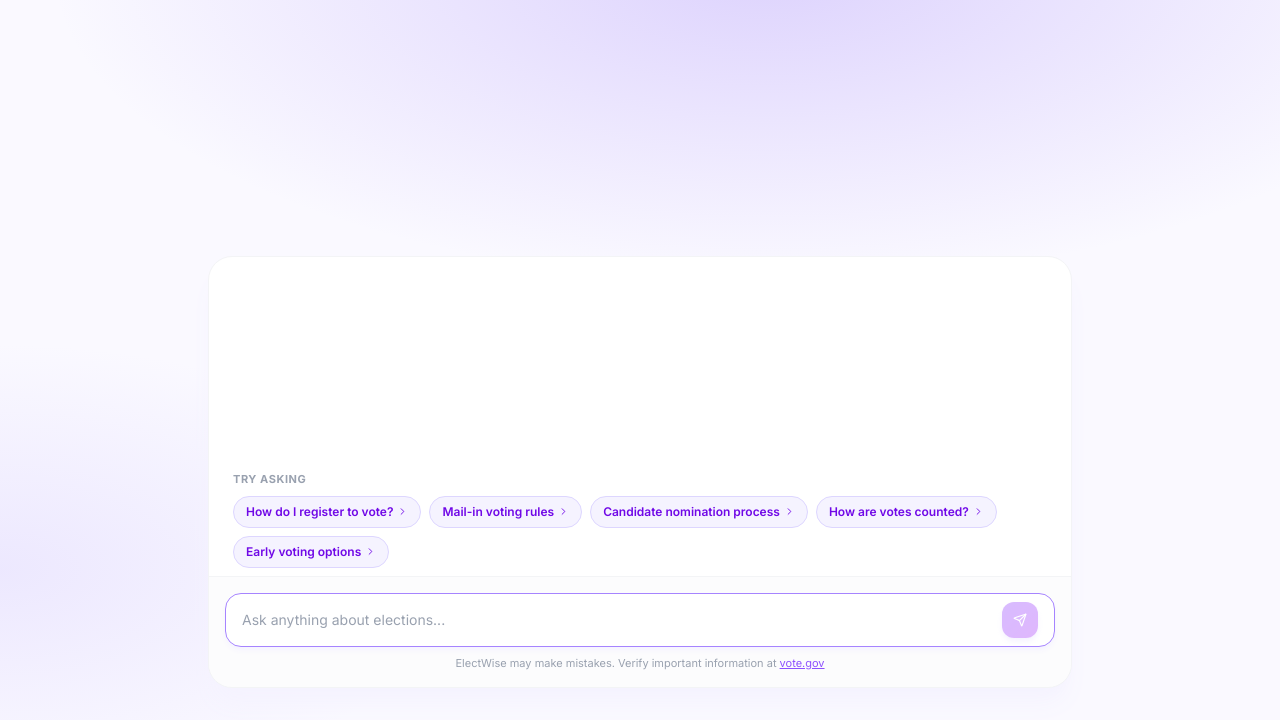
it: AssistantPage › clicking a suggestion fills the input
(page scrolled)
Click the list item with aria-label "Ask: Mail-in voting rules" at (506, 512), box [430,496,582,528]
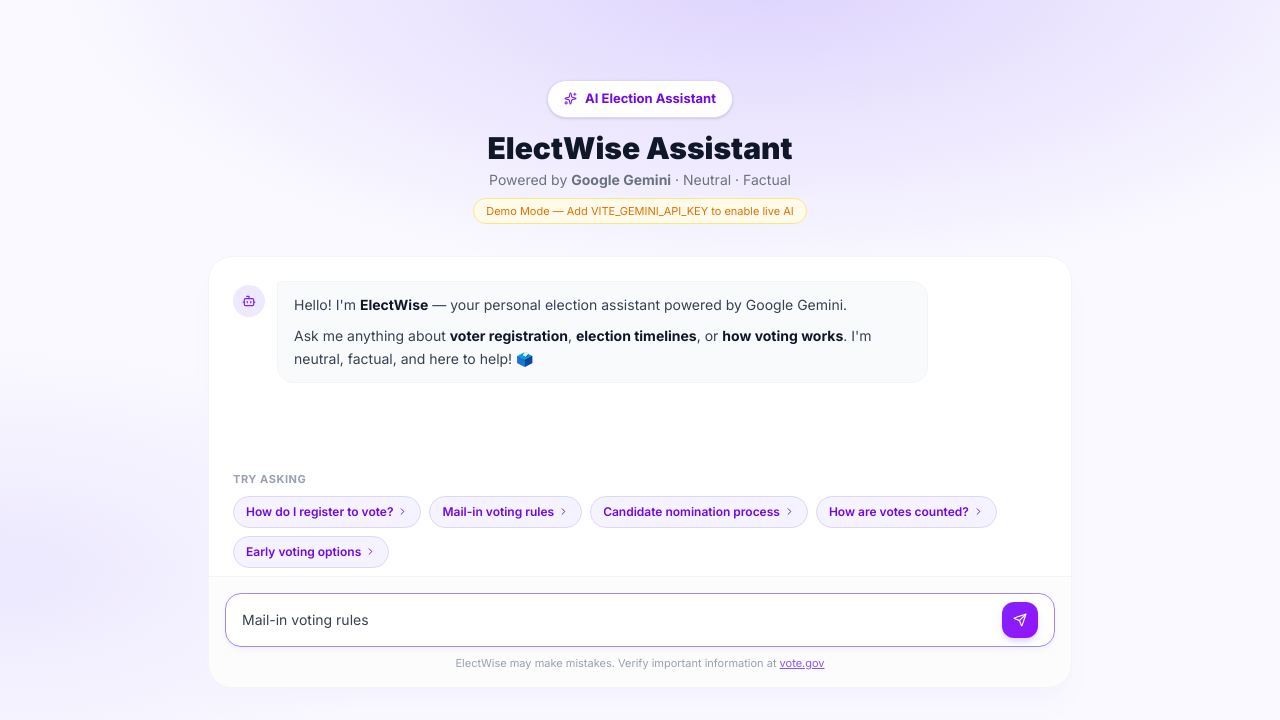
Result: the field named "your question" holds "Mail-in voting rules" at [242,602,994,638]
